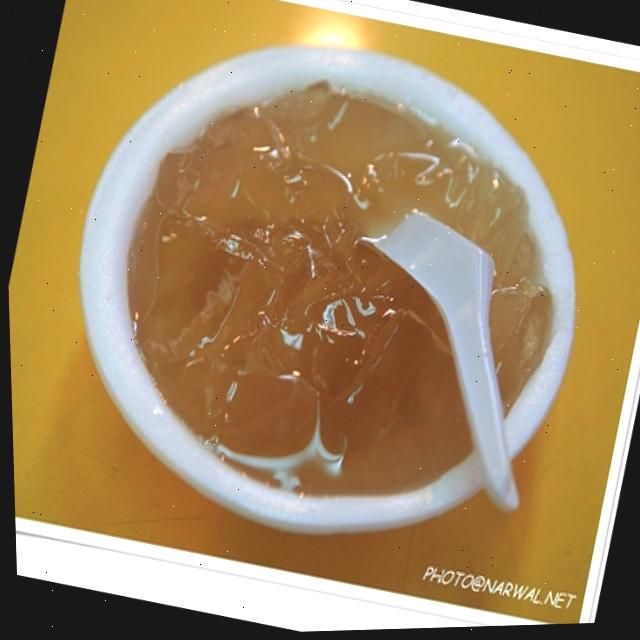蛋糕甜品: (93, 46, 573, 540)
